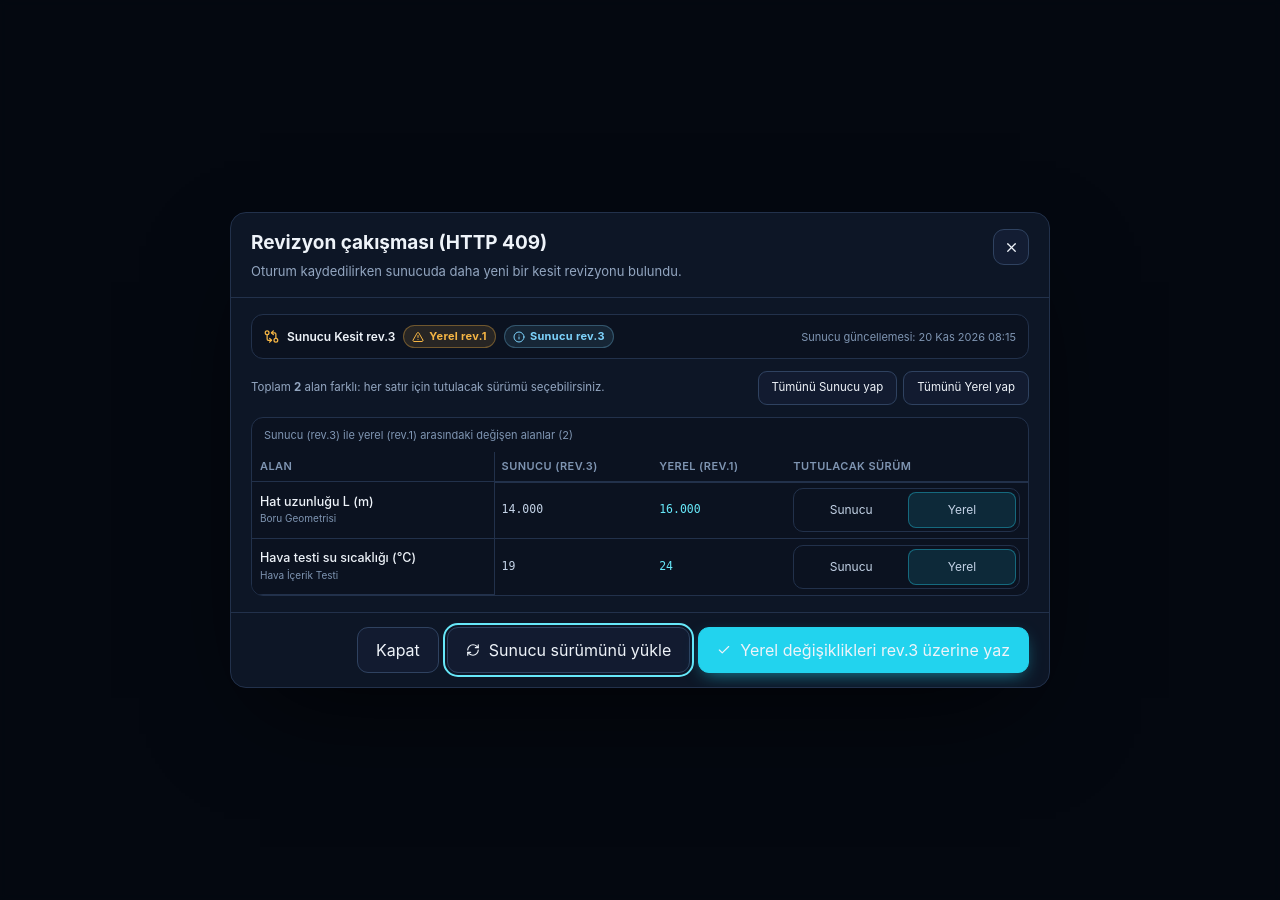
RevisionConflictModal & Desktop JSON Snapshot Import › supports per-row selection merge and refreshes on sequential 409 before succeeding
Later steps or results of the test are not shown.
Click the button "Sunucu" in the row of "Hava testi su sıcaklığı (°C)" at (851, 566), box top-left (797, 548), bottom-right (905, 584)
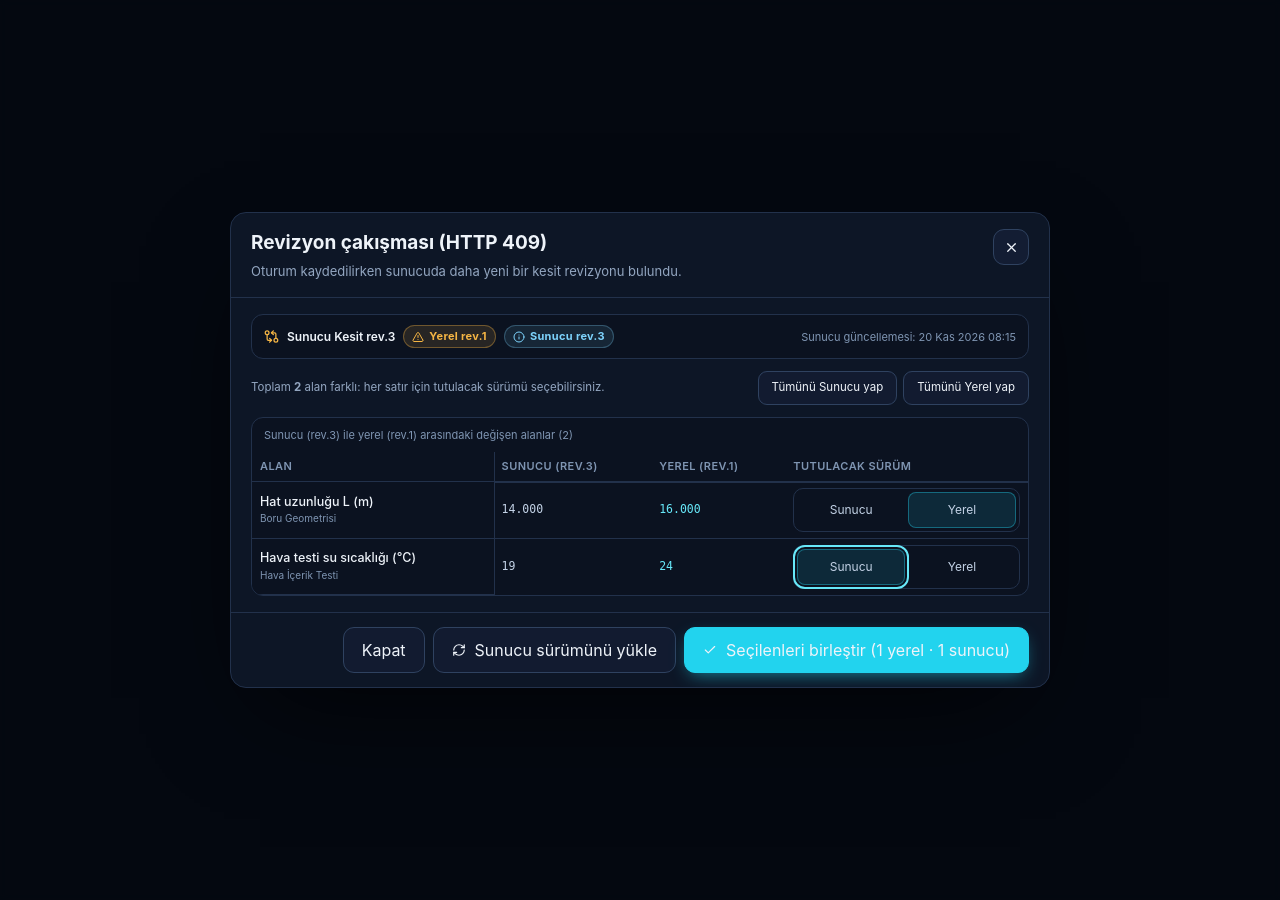
Click the button "Seçilenleri birleştir (1 yerel · 1 sunucu)" at (857, 650), box top-left (684, 626), bottom-right (1029, 672)
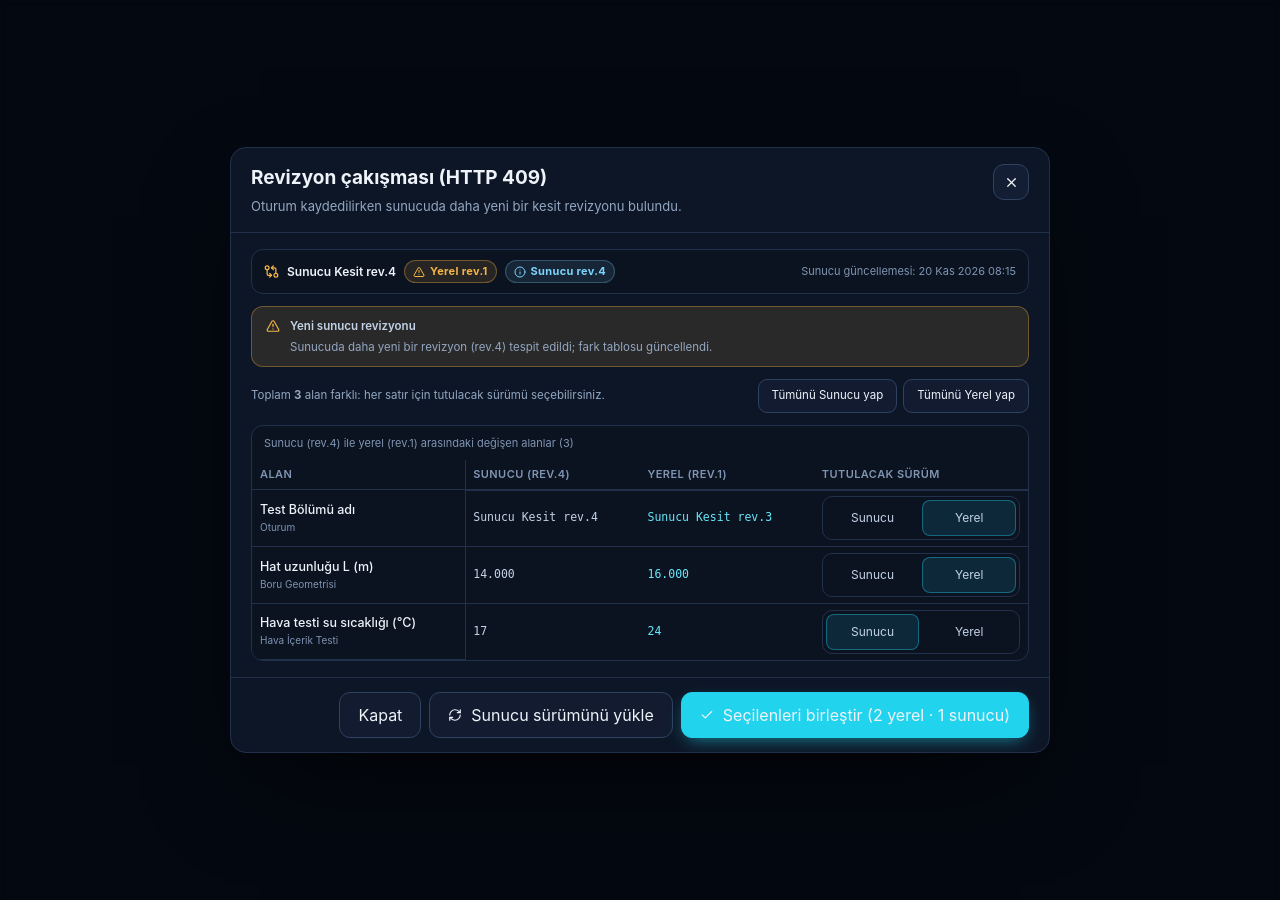
Now the text "Sunucuda daha yeni bir revizyon (rev.4) tespit edildi" is shown, box top-left (290, 340), bottom-right (712, 354)
